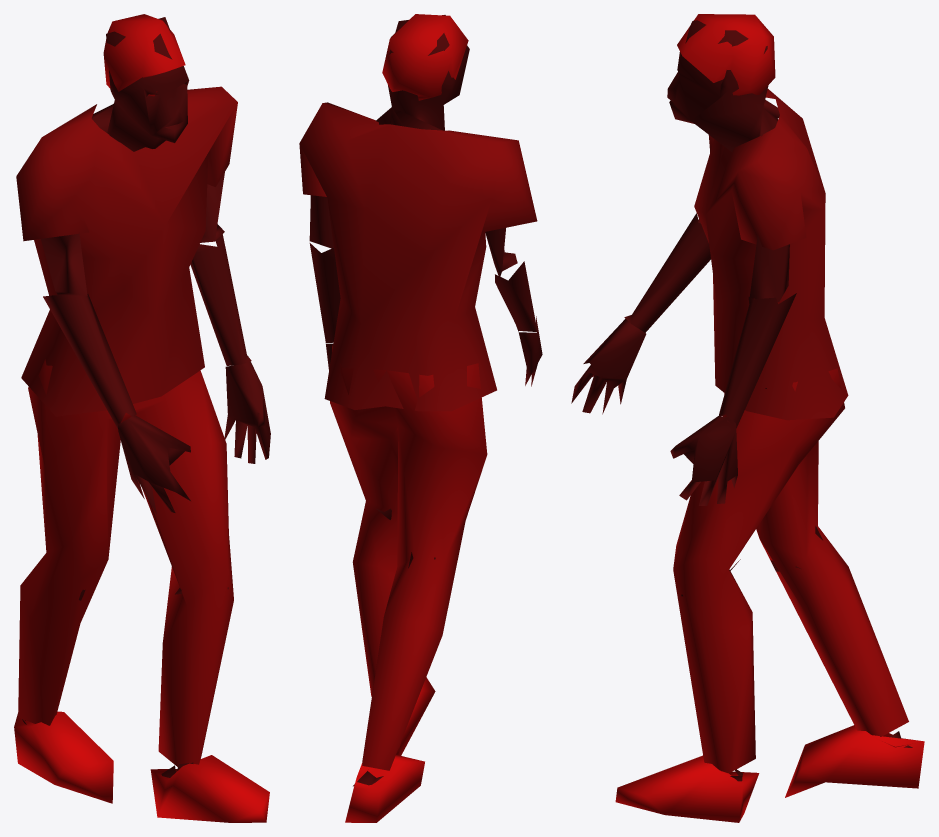
Rendered from crowd_fanStand.glb.
The picture shows the model from 3 angles, left to right: view 1: azimuth 30°, elevation 25°; view 2: azimuth 150°, elevation 25°; view 3: azimuth 270°, elevation 25°; orthographic projection. The views are drawn at different scales.
Parts seen in each view (by area): view 1: fanStand; view 2: fanStand; view 3: fanStand.
Boxes of the visible parts, bbox=[...] form: fanStand: bbox=[14, 14, 270, 822]; fanStand: bbox=[299, 14, 542, 822]; fanStand: bbox=[571, 14, 924, 822].
Bounding box in the file's own units: 0.5431 × 1.82 × 0.7409.
